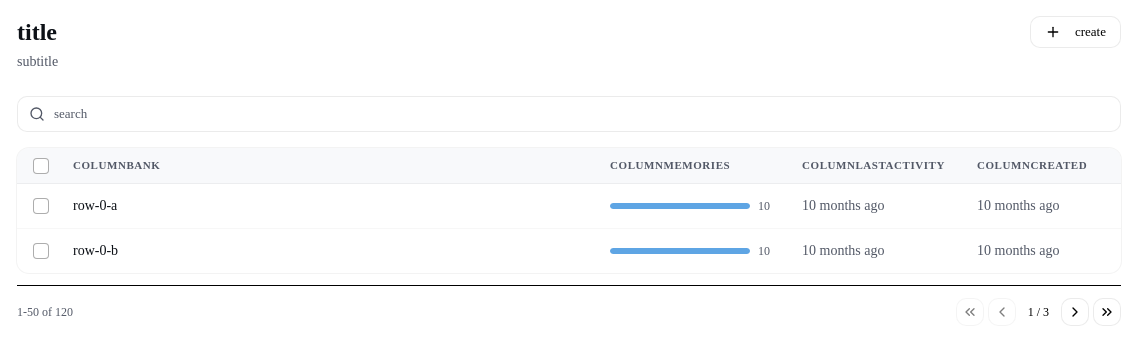
Scenario: BanksOverview bulk delete › fetches the next page by offset and drops the selection when the page changes
This screenshot has width=1139, height=343.
Click the checkbox named "selectAll". click: (41, 166)
box: [33,158,49,174]
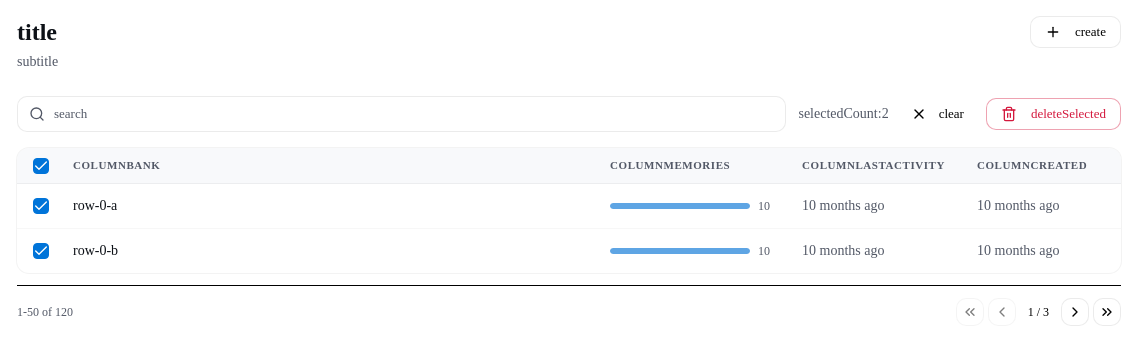
Expected: the text "selectedCount:2" is shown, [798,104,889,124]
Click the button with class "lucide-chevron-right". click: (1075, 312)
box: [1061,298,1089,326]
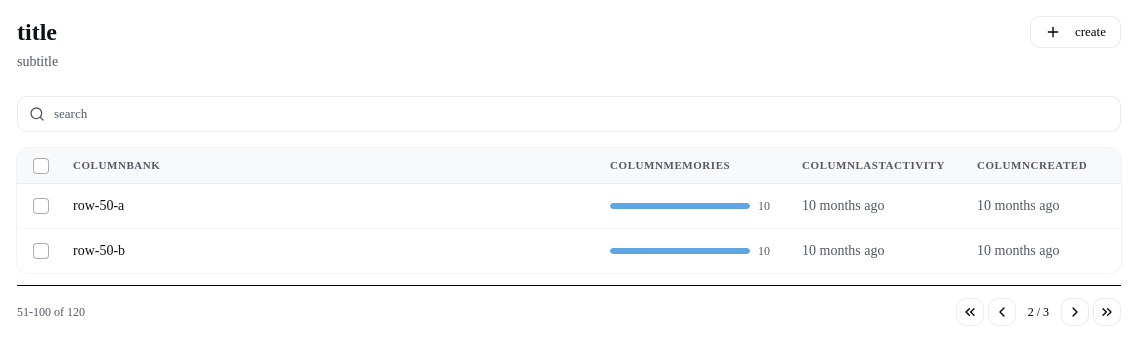
Expected: the text "selectedCount" is gone
